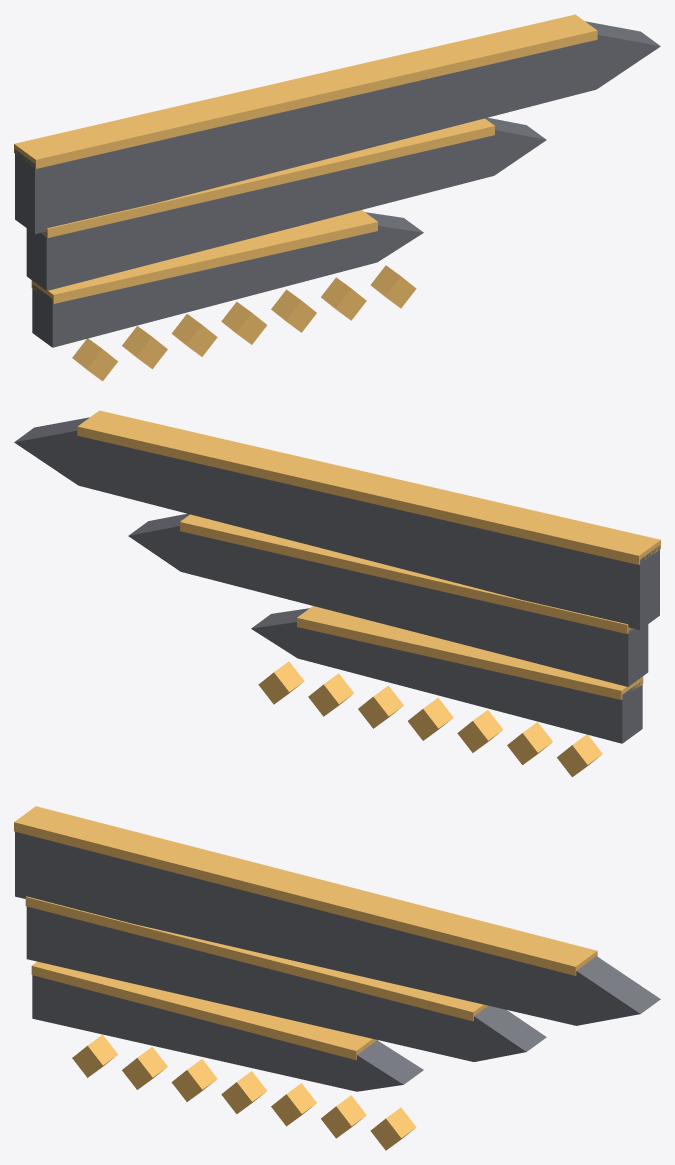
Rendered from hud_bars.fbx.
The picture shows the model from 3 angles, top to bottom: view 1: azimuth 30°, elevation 25°; view 2: azimuth 150°, elevation 25°; view 3: azimuth 330°, elevation 25°; orthographic projection.
Parts seen in each view (by area): view 1: BarFuelHouse__UI_Dark, BarHullHouse__UI_Dark, BarFuelRim__UI_Accent, BarCargoHouse__UI_Dark, BarCargoRim__UI_Accent, BarHullRim__UI_Accent, Pip6__UI_Accent, Pip7__UI_Accent, Pip4__UI_Accent, Pip2__UI_Accent, Pip5__UI_Accent, Pip1__UI_Accent (+1 smaller); view 2: BarFuelHouse__UI_Dark, BarHullHouse__UI_Dark, BarFuelRim__UI_Accent, BarCargoHouse__UI_Dark, BarCargoRim__UI_Accent, BarHullRim__UI_Accent, Pip6__UI_Accent, Pip7__UI_Accent, Pip4__UI_Accent, Pip2__UI_Accent, Pip5__UI_Accent, Pip1__UI_Accent (+1 smaller); view 3: BarFuelHouse__UI_Dark, BarHullHouse__UI_Dark, BarFuelRim__UI_Accent, BarCargoHouse__UI_Dark, BarCargoRim__UI_Accent, BarHullRim__UI_Accent, Pip6__UI_Accent, Pip7__UI_Accent, Pip2__UI_Accent, Pip4__UI_Accent, Pip3__UI_Accent, Pip5__UI_Accent (+1 smaller).
Part boxes in pixels (bbox=[...]): BarFuelHouse__UI_Dark: bbox=[15, 21, 660, 234]; BarHullHouse__UI_Dark: bbox=[26, 117, 546, 290]; BarFuelRim__UI_Accent: bbox=[14, 14, 597, 168]; BarCargoHouse__UI_Dark: bbox=[32, 212, 423, 347]; BarCargoRim__UI_Accent: bbox=[31, 210, 377, 303]; BarHullRim__UI_Accent: bbox=[41, 118, 494, 237]; Pip6__UI_Accent: bbox=[321, 277, 366, 320]; Pip7__UI_Accent: bbox=[370, 265, 416, 308]; Pip4__UI_Accent: bbox=[221, 301, 266, 344]; Pip2__UI_Accent: bbox=[122, 326, 167, 368]; Pip5__UI_Accent: bbox=[271, 289, 316, 332]; Pip1__UI_Accent: bbox=[72, 338, 117, 381]; BarFuelHouse__UI_Dark: bbox=[14, 417, 659, 630]; BarHullHouse__UI_Dark: bbox=[128, 513, 648, 686]; BarFuelRim__UI_Accent: bbox=[77, 410, 660, 564]; BarCargoHouse__UI_Dark: bbox=[251, 608, 642, 743]; BarCargoRim__UI_Accent: bbox=[297, 606, 643, 699]; BarHullRim__UI_Accent: bbox=[180, 514, 633, 633]; Pip6__UI_Accent: bbox=[308, 673, 353, 716]; Pip7__UI_Accent: bbox=[258, 661, 304, 704]; Pip4__UI_Accent: bbox=[408, 697, 453, 740]; Pip2__UI_Accent: bbox=[507, 722, 552, 764]; Pip5__UI_Accent: bbox=[358, 685, 403, 728]; Pip1__UI_Accent: bbox=[557, 734, 602, 777]; BarFuelHouse__UI_Dark: bbox=[15, 831, 660, 1025]; BarHullHouse__UI_Dark: bbox=[26, 906, 546, 1061]; BarFuelRim__UI_Accent: bbox=[14, 806, 597, 975]; BarCargoHouse__UI_Dark: bbox=[32, 975, 423, 1091]; BarCargoRim__UI_Accent: bbox=[31, 961, 377, 1059]; BarHullRim__UI_Accent: bbox=[25, 896, 487, 1021]; Pip6__UI_Accent: bbox=[321, 1095, 366, 1138]; Pip7__UI_Accent: bbox=[370, 1107, 416, 1150]; Pip2__UI_Accent: bbox=[122, 1047, 167, 1089]; Pip4__UI_Accent: bbox=[221, 1071, 266, 1113]; Pip3__UI_Accent: bbox=[171, 1059, 217, 1101]; Pip5__UI_Accent: bbox=[271, 1083, 316, 1126].
Bounding box in the file's own units: 2140 × 788 × 130.
